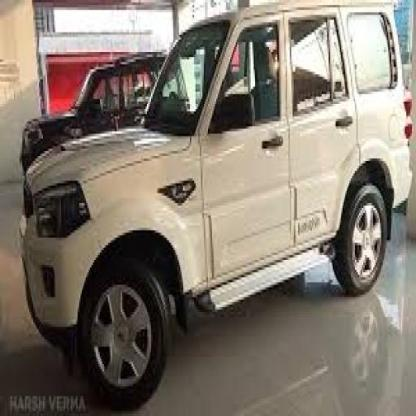car: (12, 0, 416, 402)
